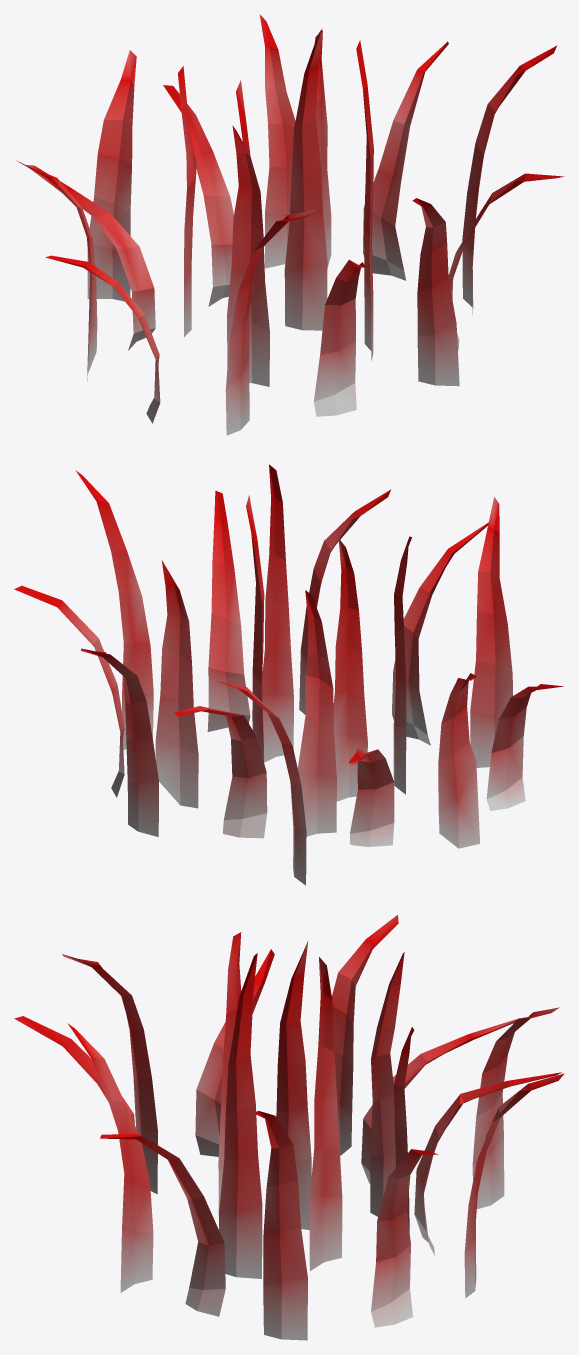
Rendered from Gras.fbx.
The picture shows the model from 3 angles, top to bottom: view 1: azimuth 30°, elevation 25°; view 2: azimuth 150°, elevation 25°; view 3: azimuth 270°, elevation 25°; orthographic projection. The views are drawn at different scales.
Parts seen in each view (by area): view 1: Plane.003; view 2: Plane.003; view 3: Plane.003.
Part boxes in pixels (x1,y1,x2,y2): Plane.003: (16, 14, 564, 435); Plane.003: (14, 464, 563, 885); Plane.003: (14, 915, 564, 1340).
Bounding box in the file's own units: 4419 × 2562 × 3961.
